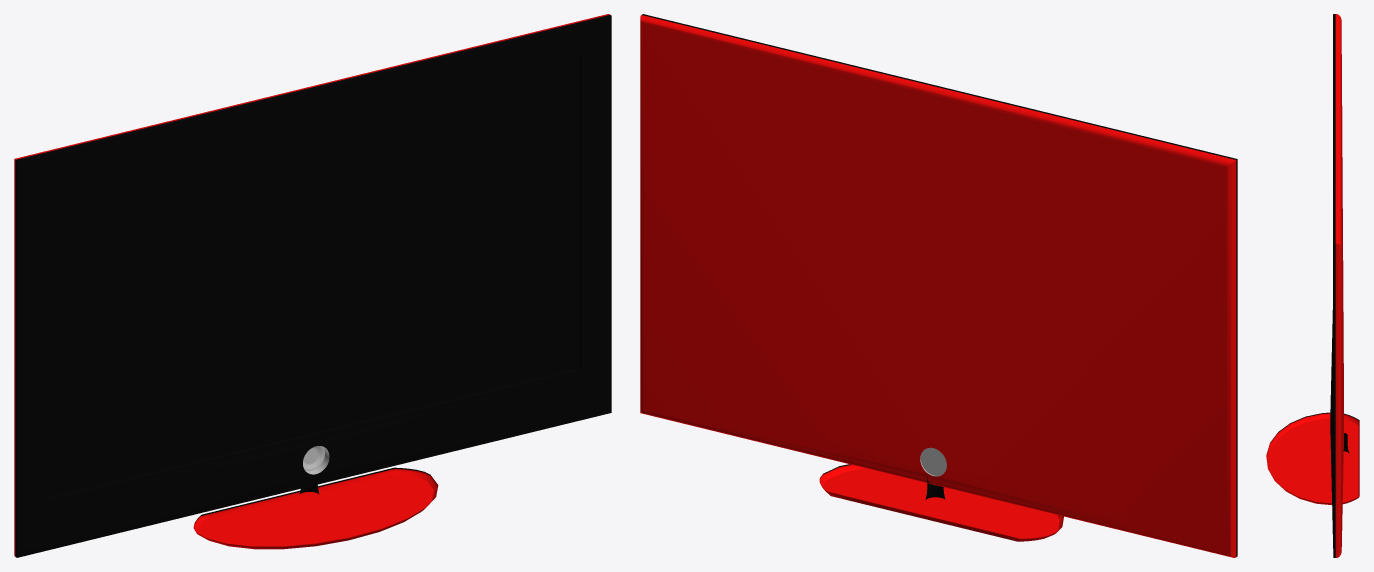
File: LG Scarlet Screen.fbx
The picture shows the model from 3 angles, left to right: view 1: azimuth 30°, elevation 25°; view 2: azimuth 150°, elevation 25°; view 3: azimuth 270°, elevation 25°; orthographic projection. The views are drawn at different scales.
Visible parts, largest first — view 1: TV, Base; view 2: TV, Base; view 3: Base, TV.
Boxes of the visible parts, x1,y1,x2,y2 form: TV: (14,14,611,557); Base: (193,467,438,549); TV: (640,14,1237,557); Base: (819,464,1063,541); Base: (1266,412,1359,504); TV: (1330,14,1343,557).
Bounding box in the file's own units: 168 × 113 × 28.83.
